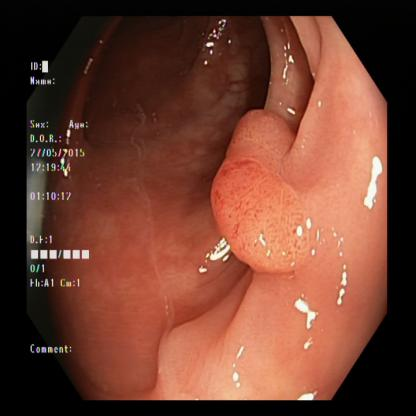Labels: (26, 45, 95, 372)
Polyps: (197, 96, 322, 276)
